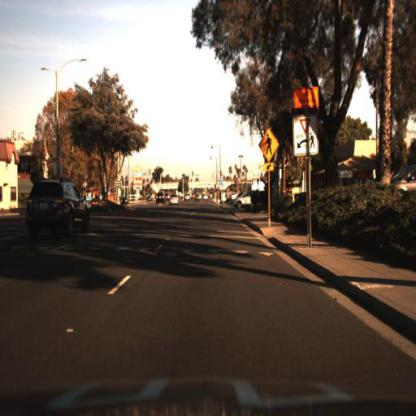car: (23, 178, 93, 239), (170, 192, 181, 208), (156, 191, 168, 205), (156, 192, 168, 205), (119, 197, 131, 209)
